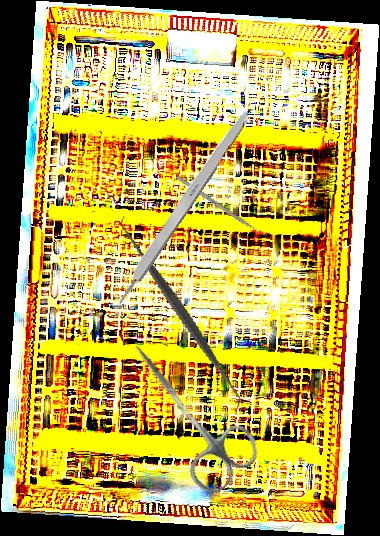Iris Scissors: (104, 323, 268, 501)
Pusher: (175, 175, 271, 241)
Scalpel Handle: (110, 103, 256, 307)
Spatula Surgical: (79, 215, 283, 410)
